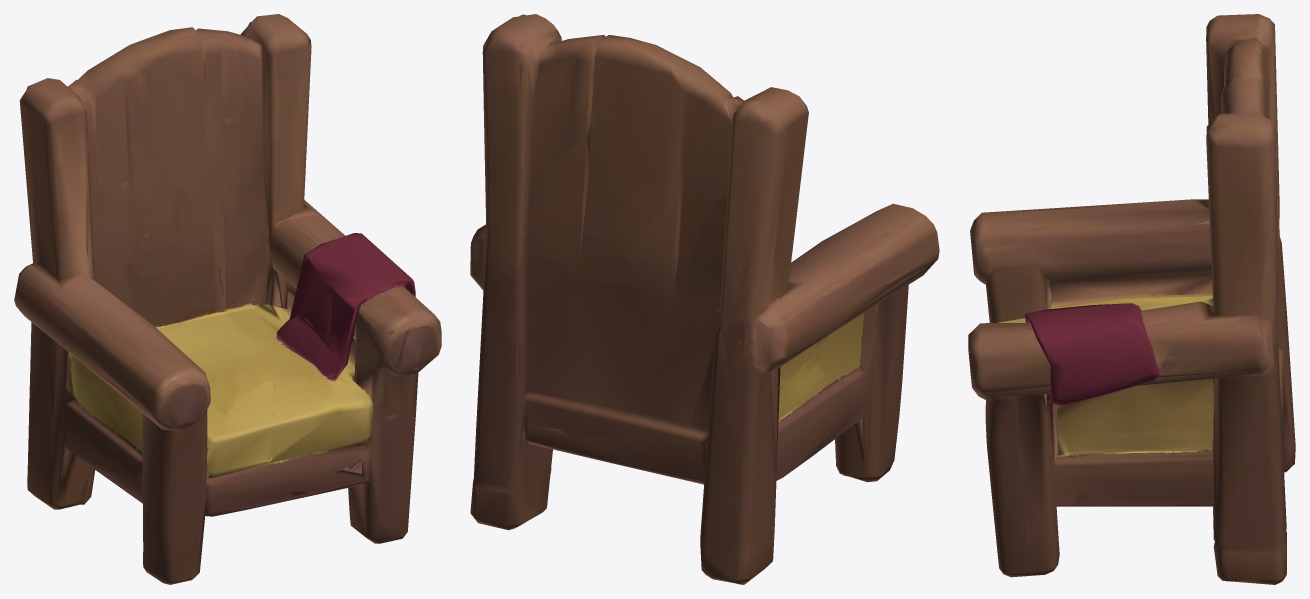
The model's file is hesta-chair.glb.
3 renders of one model, left to right at view 1: azimuth 30°, elevation 25°; view 2: azimuth 150°, elevation 25°; view 3: azimuth 270°, elevation 25°, orthographic. The views are drawn at different scales.
Bounding box in the file's own units: 0.8109 × 1.15 × 0.7353.
1 material, 1 textured.
